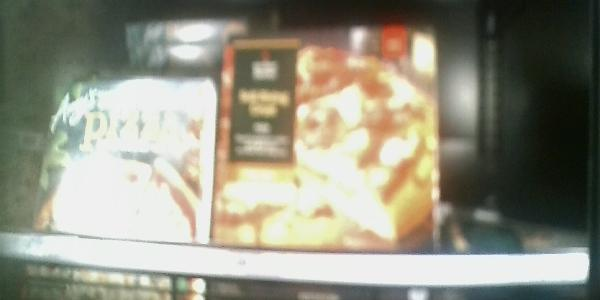pizza1: (210, 34, 439, 252), (34, 72, 214, 244)
